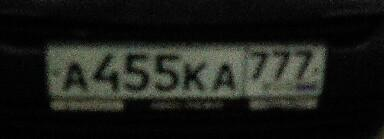license-plateSW: (41, 37, 332, 106)
